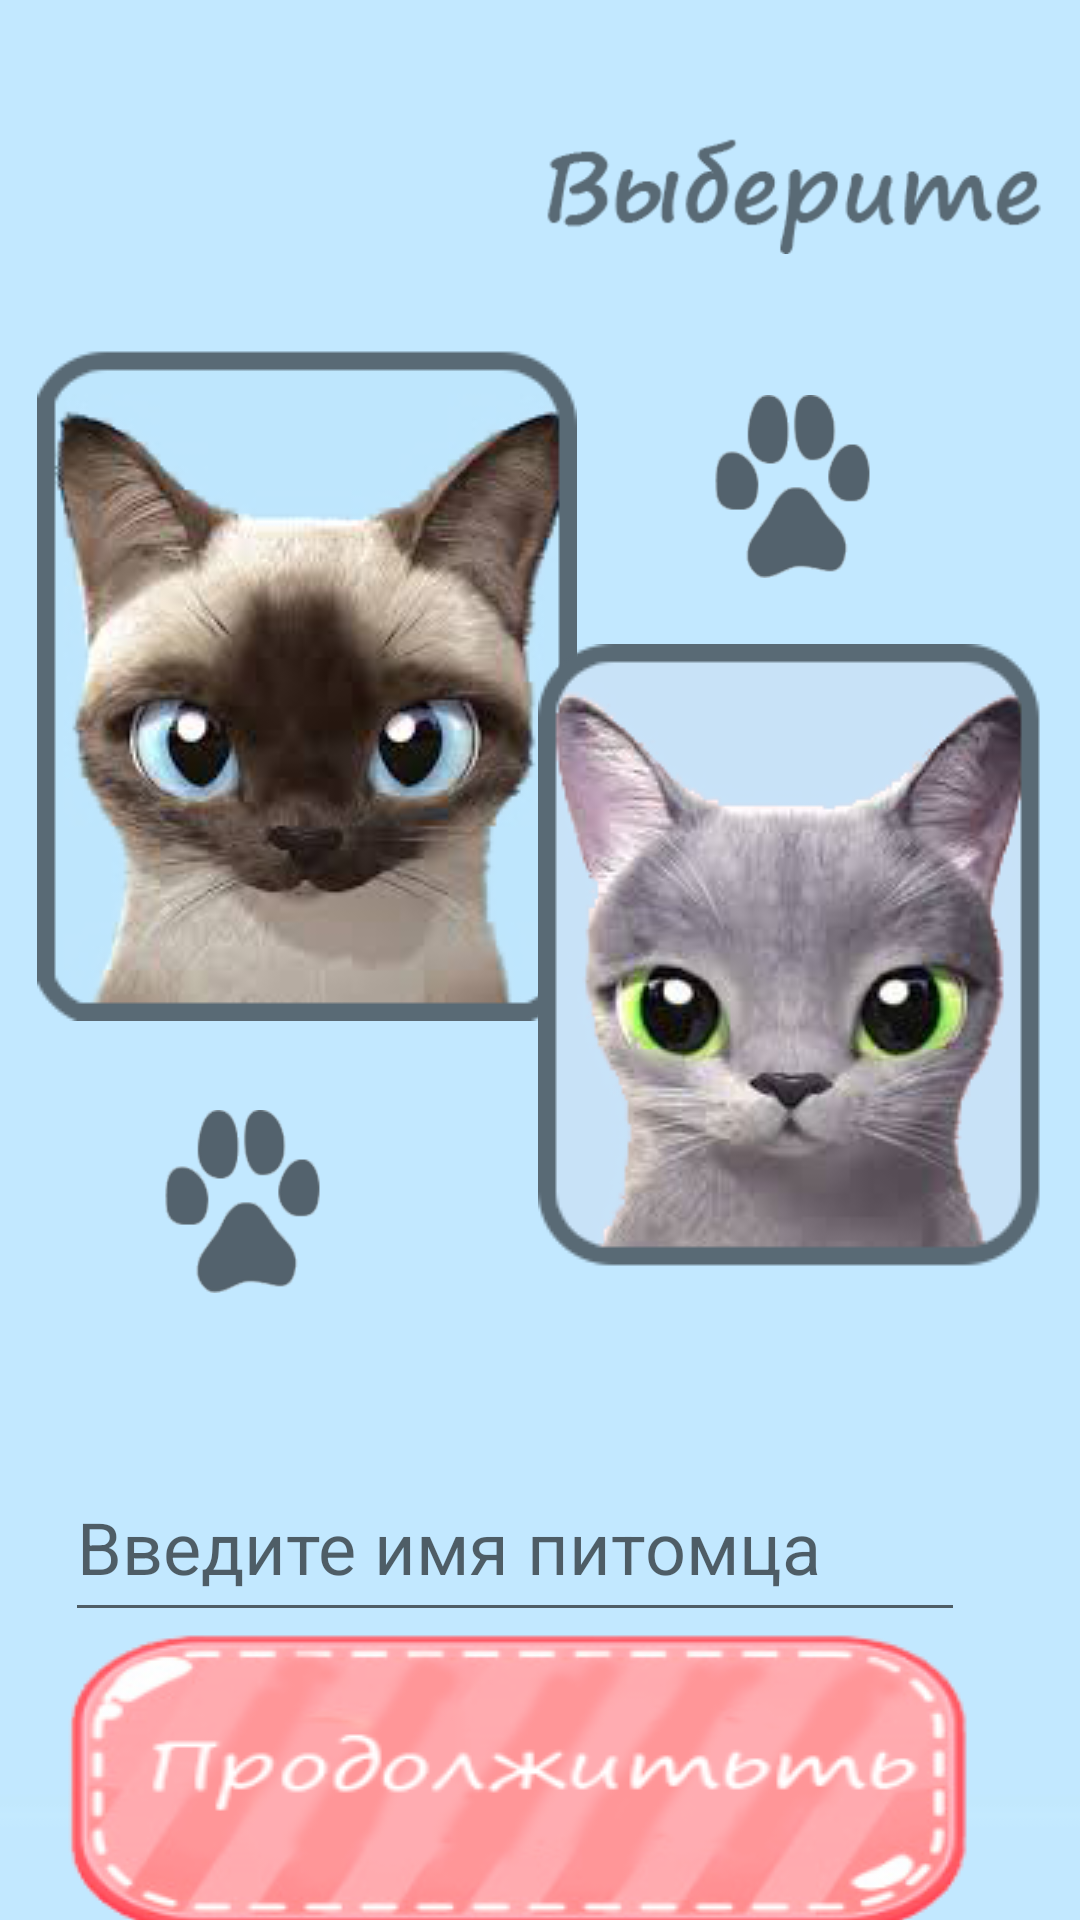

Icons on this 1080px×1920px Android screen, each with the point to tap as (x=x, y=y):
catlegs: (x=792, y=486), (x=242, y=1201)
